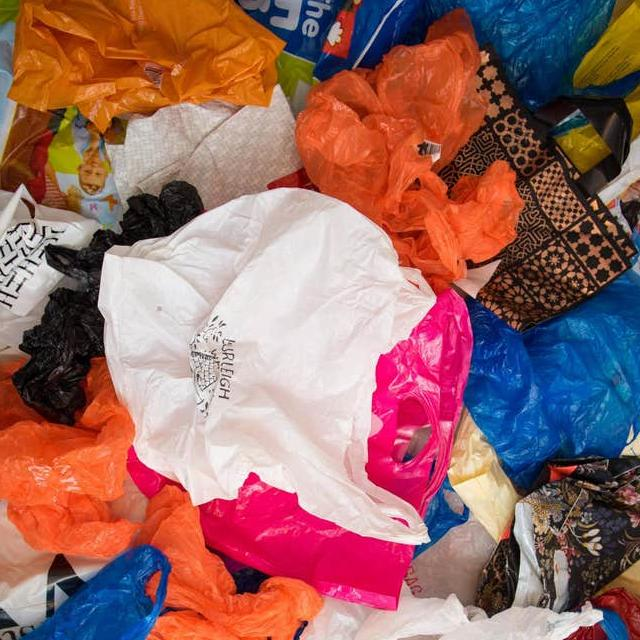Single-layer Plastic: (99, 189, 436, 544), (296, 10, 524, 291), (12, 181, 201, 423), (464, 271, 640, 489), (10, 0, 284, 131), (199, 474, 413, 609), (136, 486, 322, 640), (0, 359, 140, 557), (369, 290, 472, 516), (428, 0, 615, 109), (0, 185, 100, 349), (300, 589, 600, 640), (21, 545, 171, 639), (448, 409, 520, 542)
